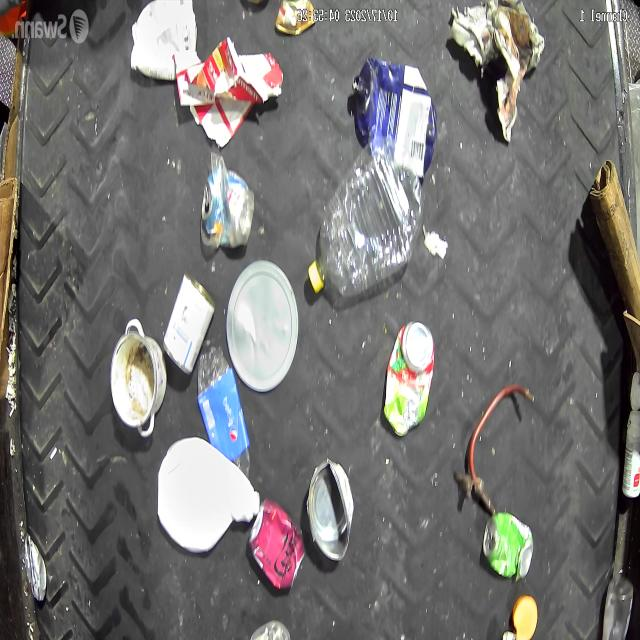can: (383, 319, 435, 438), (162, 273, 215, 377), (304, 456, 352, 564), (248, 498, 304, 590), (200, 166, 254, 252), (482, 512, 533, 580), (23, 530, 48, 602)
plastic_bottle: (307, 153, 422, 300), (194, 344, 250, 466)
